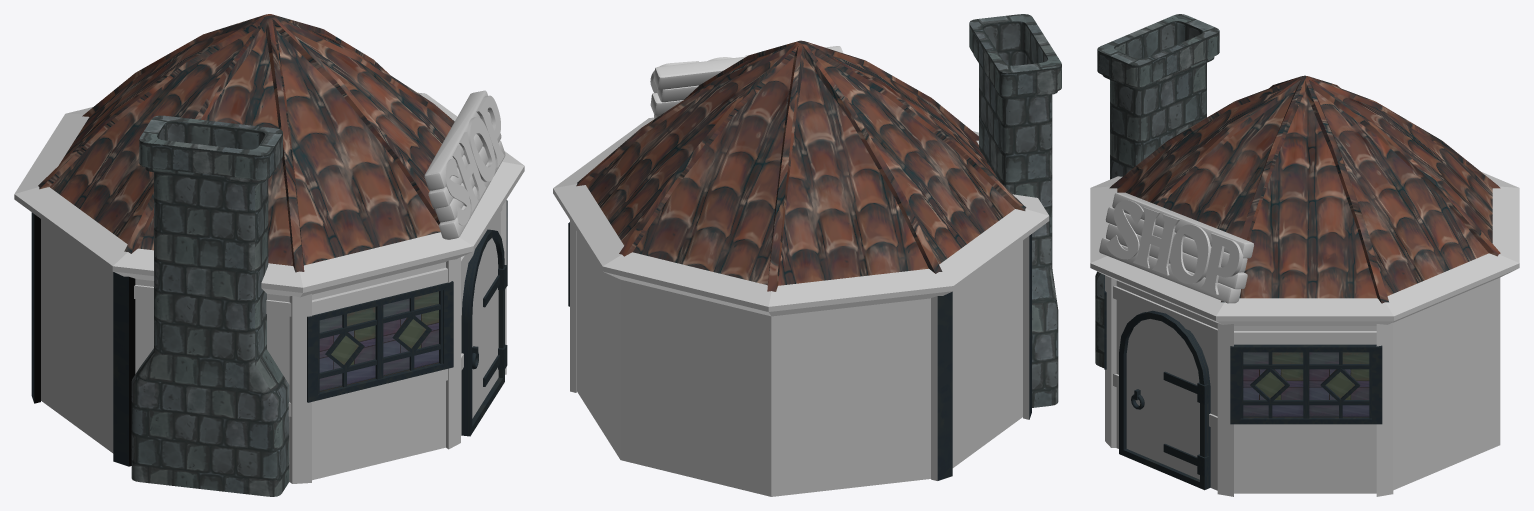
File: gardengame_shop.fbx
3 renders of one model, left to right at view 1: azimuth 30°, elevation 25°; view 2: azimuth 150°, elevation 25°; view 3: azimuth 270°, elevation 25°, orthographic. The views are drawn at different scales.
Parts seen in each view (by area): view 1: Box017; view 2: Box017; view 3: Box017.
Part boxes in pixels (x1,y1,x2,y2): Box017: [14, 14, 524, 496]; Box017: [553, 14, 1061, 496]; Box017: [1090, 14, 1519, 496].
Size of the model in its own units: 65.51 by 56.05 by 65.51.
